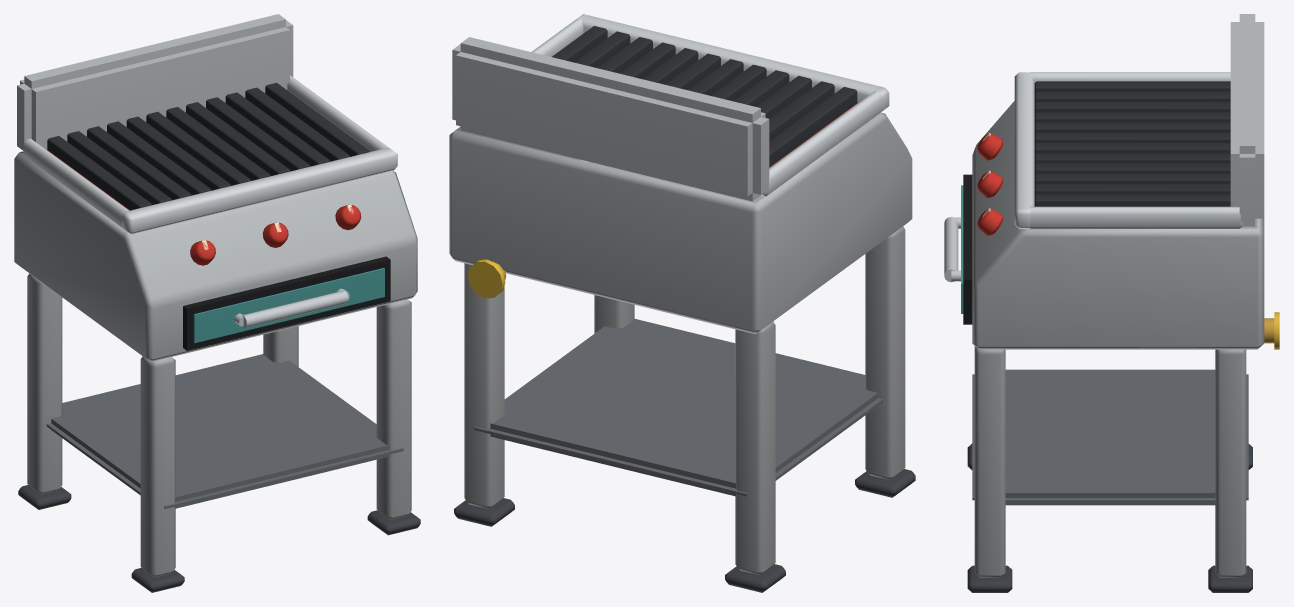
The model's file is SM_Charbroiler_075.glb.
The picture shows the model from 3 angles, left to right: view 1: azimuth 30°, elevation 25°; view 2: azimuth 150°, elevation 25°; view 3: azimuth 270°, elevation 25°; orthographic projection. The views are drawn at different scales.
Parts seen in each view (by area): view 1: SM_Charbroiler_075; view 2: SM_Charbroiler_075; view 3: SM_Charbroiler_075.
Part boxes in pixels (left/top/right/bottom): SM_Charbroiler_075: left=14, top=14, right=420, bottom=592; SM_Charbroiler_075: left=449, top=14, right=915, bottom=592; SM_Charbroiler_075: left=944, top=14, right=1279, bottom=592.
Size of the model in its own units: 0.75 by 1.1 by 0.753.
Materials: 1 (1 with a texture image).
